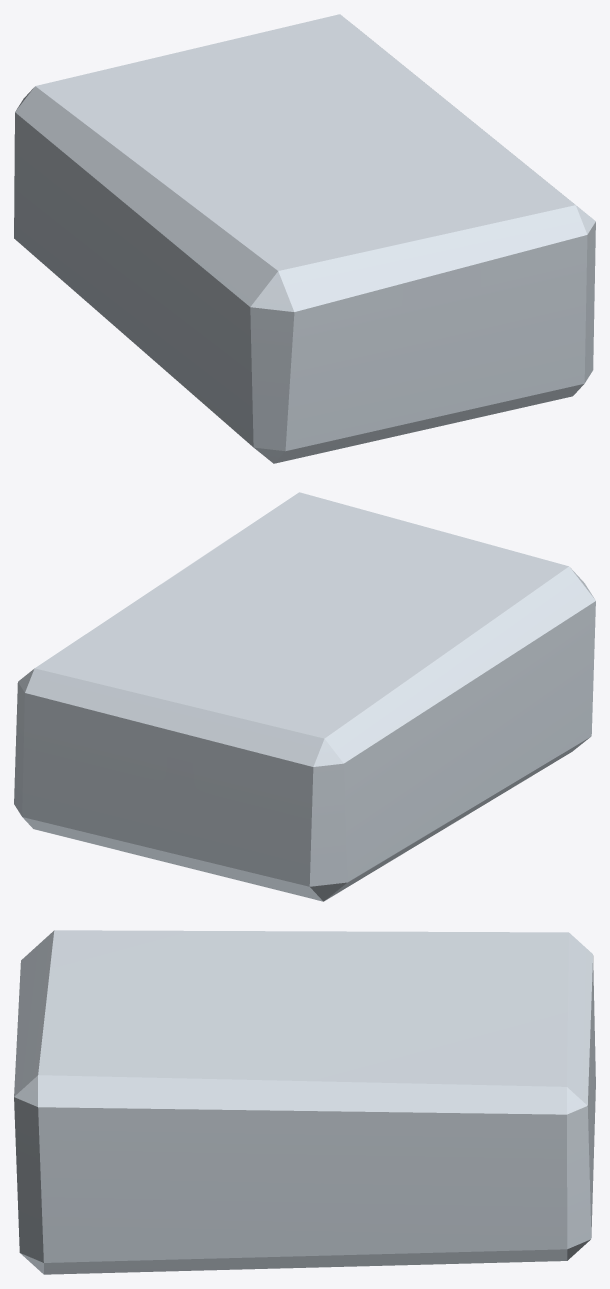
The model's file is Brick2.fbx.
3 renders of one model, top to bottom at view 1: azimuth 30°, elevation 25°; view 2: azimuth 150°, elevation 25°; view 3: azimuth 270°, elevation 25°, orthographic. The views are drawn at different scales.
Visible parts, largest first — view 1: Brick2; view 2: Brick2; view 3: Brick2.
Boxes of the visible parts, left/top/right/bottom form: Brick2: left=14, top=14, right=595, bottom=463; Brick2: left=14, top=492, right=595, bottom=901; Brick2: left=14, top=930, right=595, bottom=1274.
Bounding box in the file's own units: 222 × 114 × 301.
